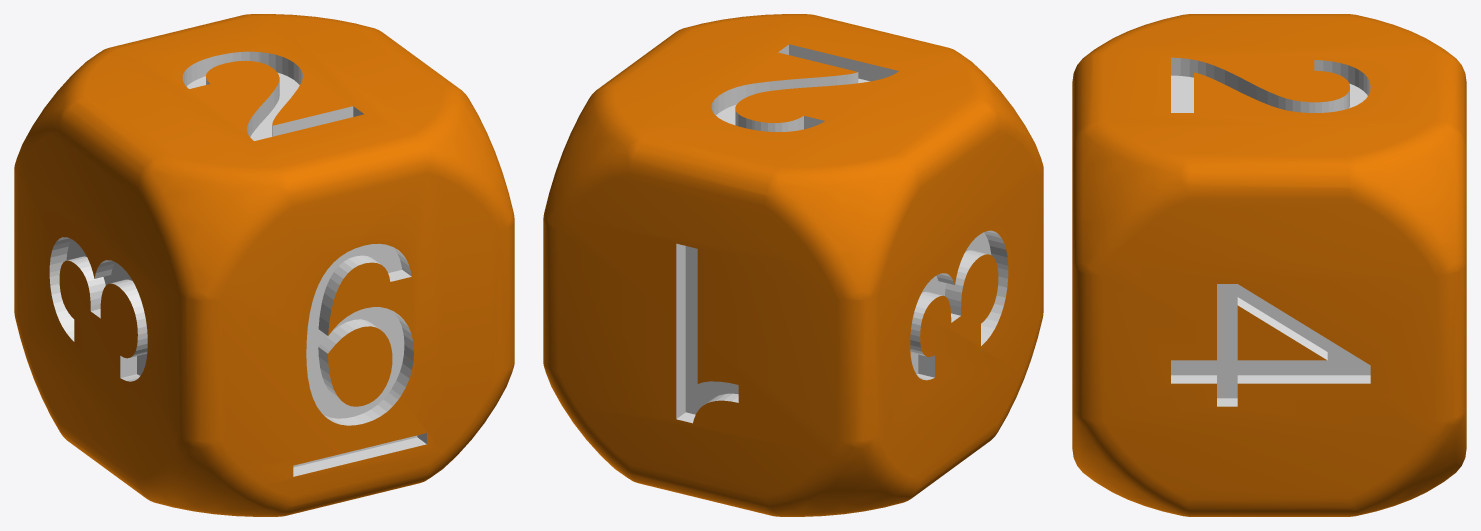
Rendered from Die Numbered Secondary Orange.glb.
The picture shows the model from 3 angles, left to right: view 1: azimuth 30°, elevation 25°; view 2: azimuth 150°, elevation 25°; view 3: azimuth 270°, elevation 25°; orthographic projection. The views are drawn at different scales.
Parts seen in each view (by area): view 1: Die_Body; view 2: Die_Body; view 3: Die_Body.
Part boxes in pixels (<box>): Die_Body: <box>14,14,514,516</box>; Die_Body: <box>543,14,1043,516</box>; Die_Body: <box>1072,14,1466,516</box>.
Size of the model in its own units: 1 by 1 by 1.
